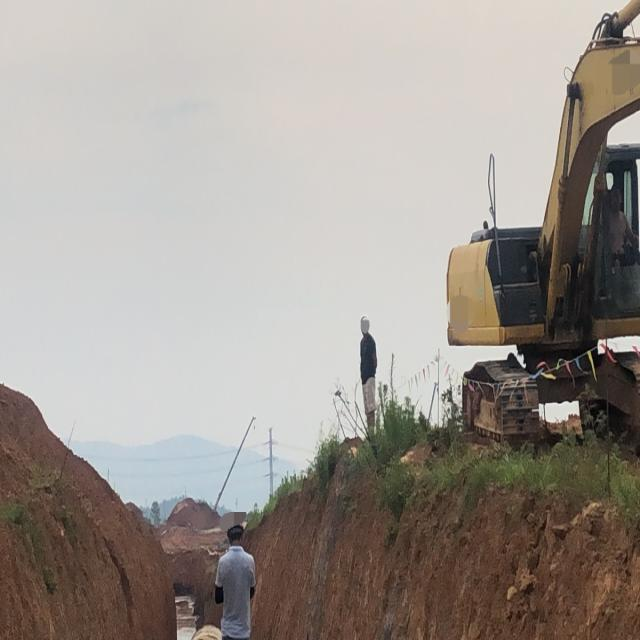crane: (213, 415, 255, 510)
excavator: (446, 0, 639, 456)
